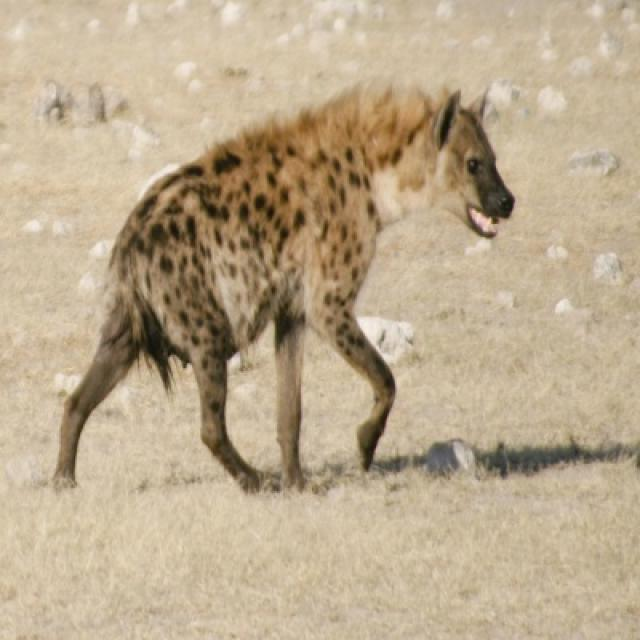hyena: (54, 88, 514, 490)
